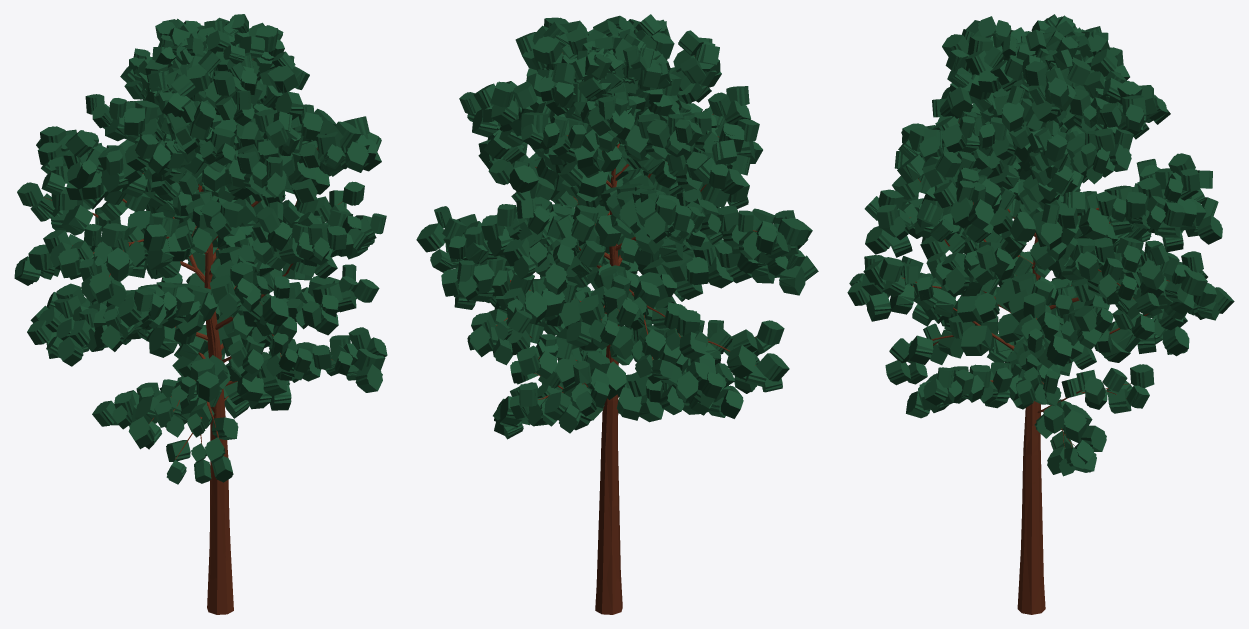
File: bigLeavesTreeL.fbx
The picture shows the model from 3 angles, left to right: view 1: azimuth 30°, elevation 25°; view 2: azimuth 150°, elevation 25°; view 3: azimuth 270°, elevation 25°; orthographic projection. The views are drawn at different scales.
Visible parts, largest first — view 1: bigLeavesTreeL, bigLeavesTreeL1, bigLeavesTreeL3; view 2: bigLeavesTreeL, bigLeavesTreeL1, bigLeavesTreeL3; view 3: bigLeavesTreeL, bigLeavesTreeL1, bigLeavesTreeL3.
Boxes of the visible parts, x1=… form: bigLeavesTreeL: x1=14, y1=14, x2=387, y2=610; bigLeavesTreeL1: x1=17, y1=14, x2=386, y2=614; bigLeavesTreeL3: x1=14, y1=17, x2=387, y2=580; bigLeavesTreeL: x1=416, y1=14, x2=818, y2=614; bigLeavesTreeL1: x1=417, y1=16, x2=818, y2=614; bigLeavesTreeL3: x1=417, y1=17, x2=817, y2=584; bigLeavesTreeL: x1=847, y1=14, x2=1234, y2=614; bigLeavesTreeL1: x1=848, y1=15, x2=1232, y2=614; bigLeavesTreeL3: x1=848, y1=16, x2=1227, y2=613.
Size of the model in its own units: 399 by 634 by 384.
